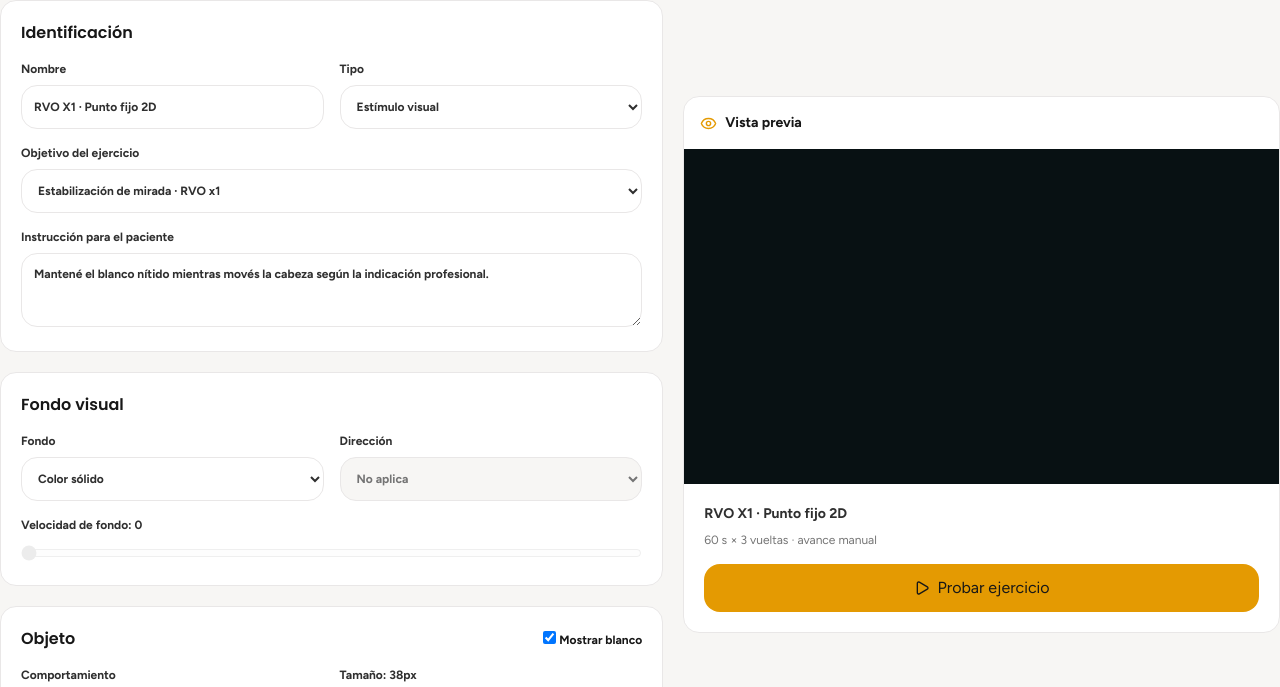
Test case: creación de ejercicios › al elegir ejercicio físico muestra postura, superficie y supervisión
Step 1. Select "Ejercicio físico guiado" in the dropdown labelled "Tipo" → (491, 107), box [340, 85, 642, 129]
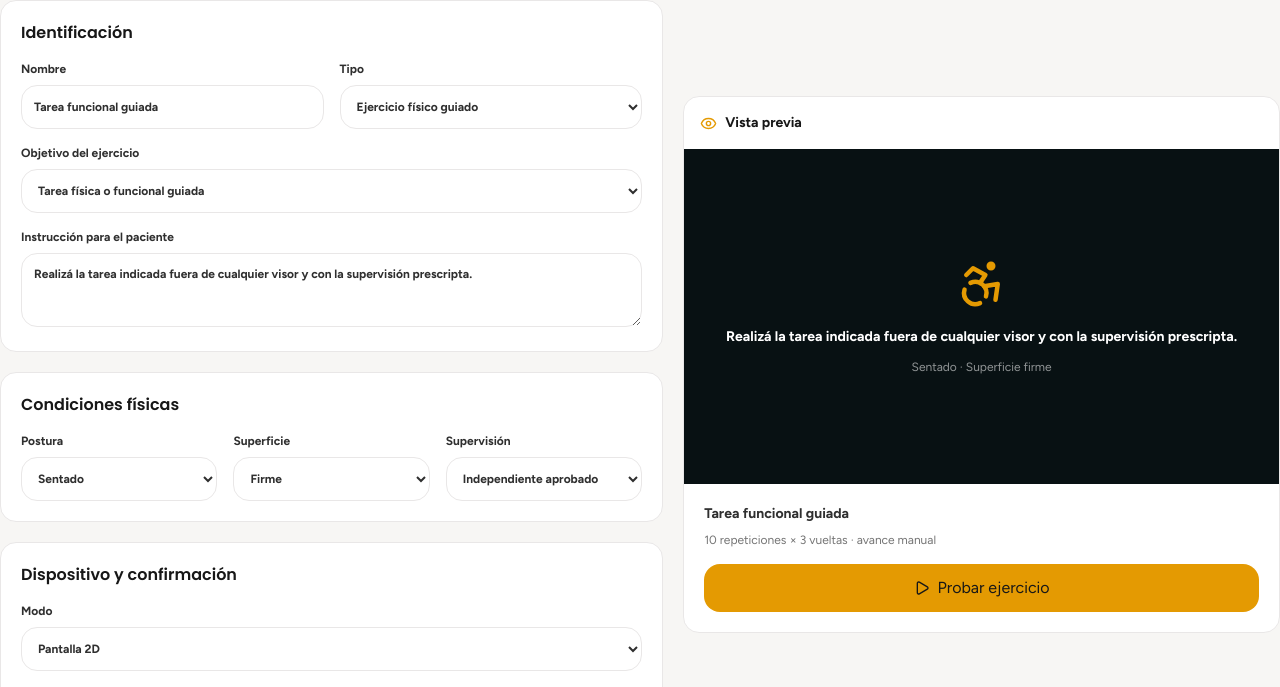
Expected: the dropdown labelled "Postura" is shown, [21, 457, 217, 501]
Expected: the heading "Fondo visual" is gone
